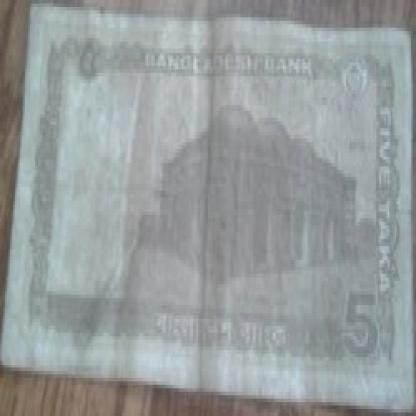Five Taka: (339, 281, 383, 388), (70, 28, 113, 97)
